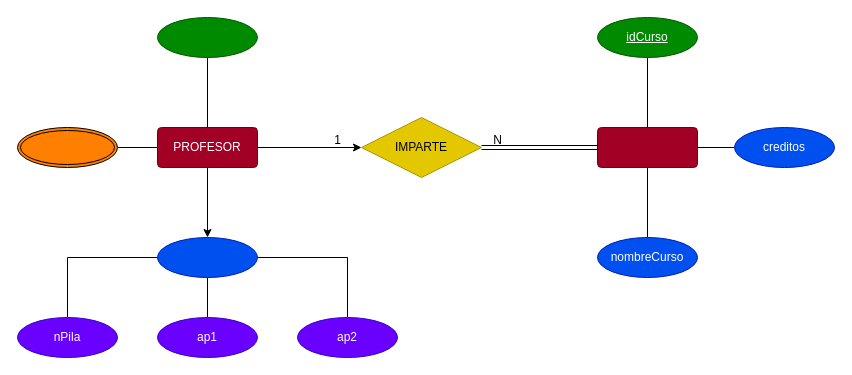
The diagram is 852 pixels wide and 375 high, and some of its shapes have lost their labels. The shapes that lost their labels are listed below. From the top down, each one's box as (x1, y1, x2, y2) in pixels, then its label:
(156, 16, 258, 58): idProfesor
(16, 126, 118, 168): especialidad
(596, 126, 698, 168): CURSO
(156, 236, 258, 278): nombre
